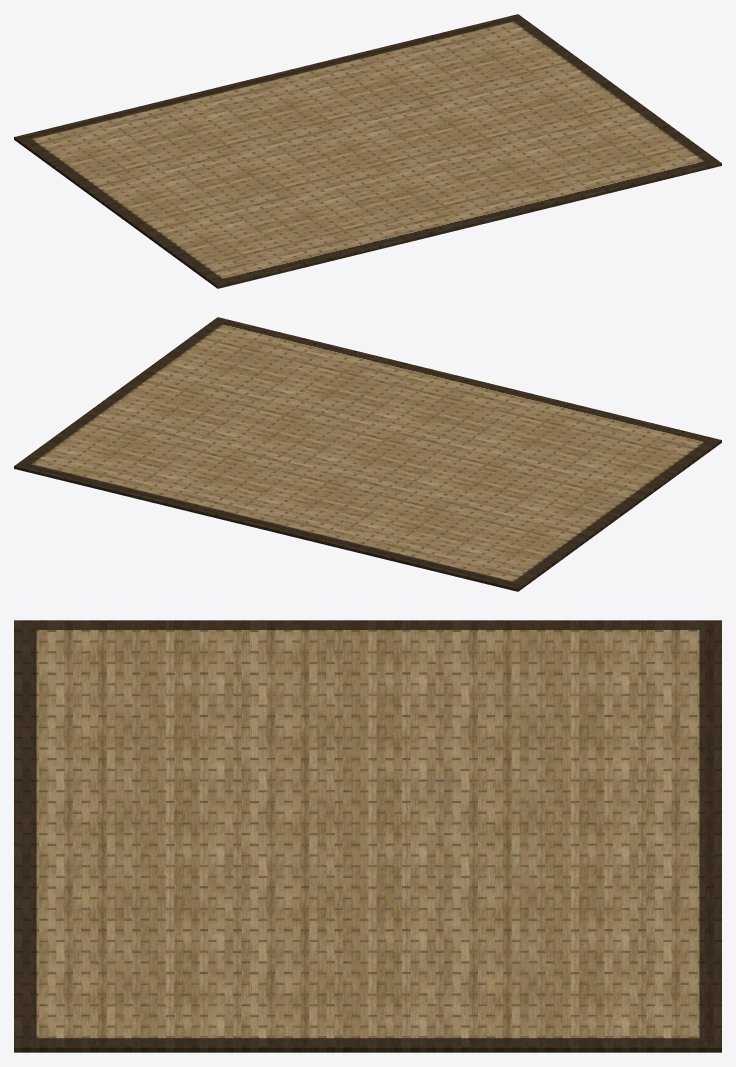
The model's file is alfombra_yute_140x200.glb.
3 views of the same model, one above another, from view 1: azimuth 30°, elevation 25°; view 2: azimuth 150°, elevation 25°; view 3: azimuth 270°, elevation 25° (orthographic). The views are drawn at different scales.
Visible parts, largest first — view 1: alfombra_yute_140x200; view 2: alfombra_yute_140x200; view 3: alfombra_yute_140x200.
Part boxes in pixels (x1,y1,x2,y2): alfombra_yute_140x200: (14,14,721,288); alfombra_yute_140x200: (14,317,721,591); alfombra_yute_140x200: (14,620,721,1052).
Size of the model in its own units: 2 by 0.01 by 1.4.
Materials: 1 (1 with a texture image).
